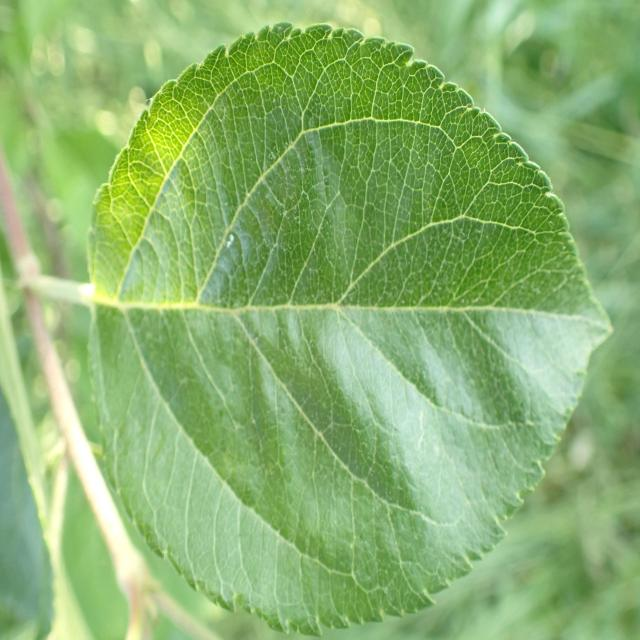healthy: (88, 20, 614, 638)
